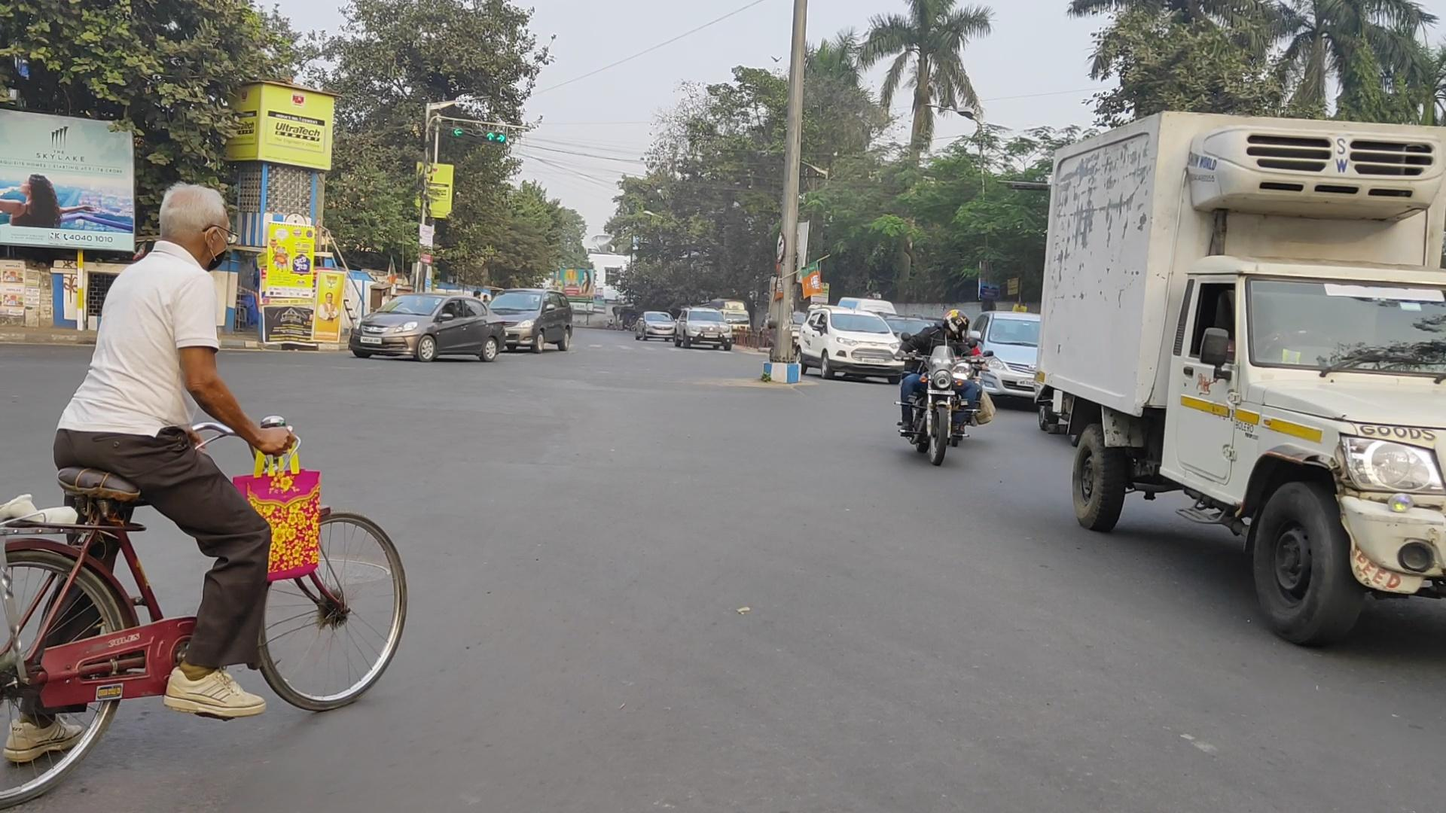bike: (1, 184, 408, 813), (894, 309, 995, 466)
car: (348, 293, 506, 363), (966, 311, 1055, 415), (796, 304, 905, 385), (489, 288, 573, 354), (675, 306, 733, 351), (634, 311, 676, 343)
van: (1035, 109, 1446, 650)
